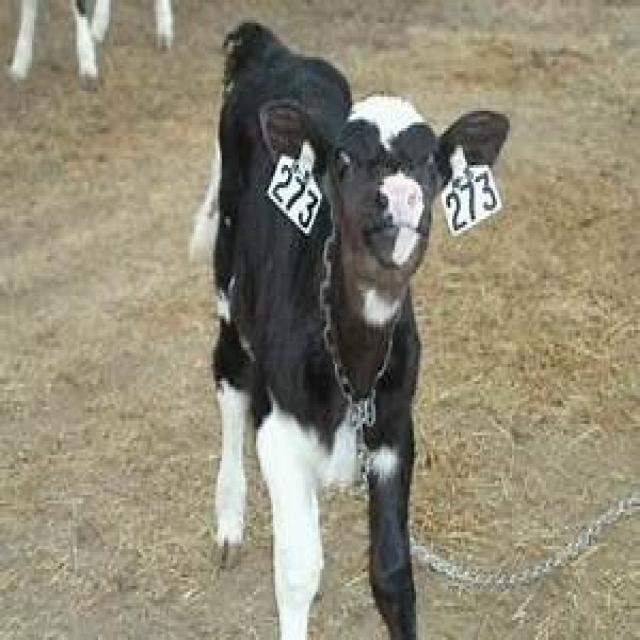cow: (214, 23, 509, 638)
